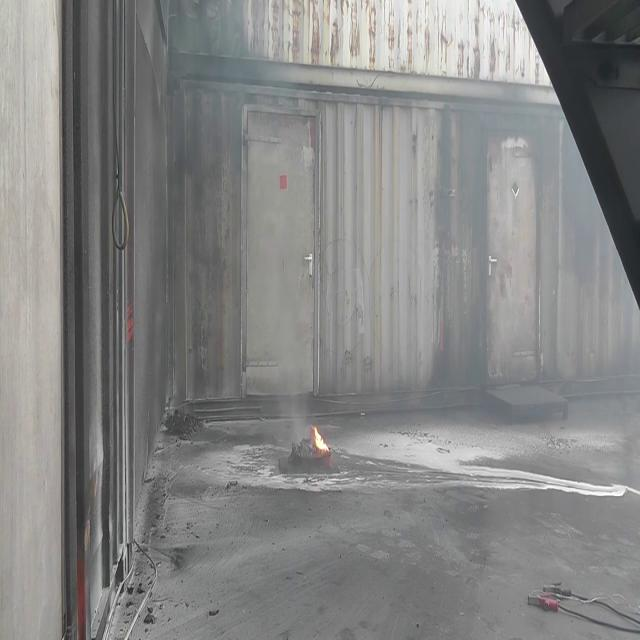Fire: (310, 417, 330, 459)
Smoke: (223, 132, 334, 414)
